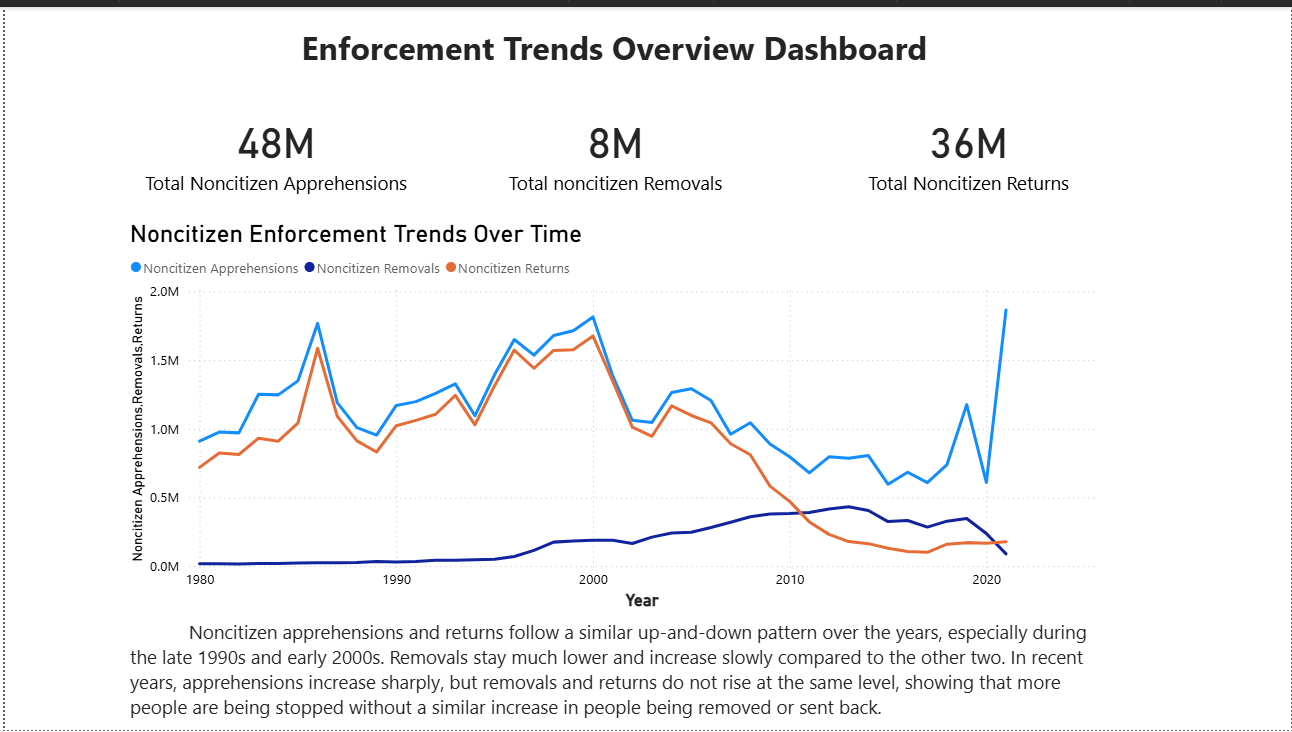

The dashboard page shown, as its layout file describes it:
{"tool":"powerbi","page":{"name":"Enforcement Trends","canvas":[1280,720],"ordinal":1},"visuals":[{"type":"lineChart","title":"Noncitizen Enforcement Trends Over Time","fields":{"Category":["US Immigration Statistics (Ver 1 7 23).Year"],"Y":["Sum(US Immigration Statistics (Ver 1 7 23).Noncitizen Apprehensions)","Sum(US Immigration Statistics (Ver 1 7 23).Noncitizen Removals)","Sum(US Immigration Statistics (Ver 1 7 23).Noncitizen Returns)"]},"box":[119.4,211.5,975.3,393.1],"z":0},{"type":"textbox","box":[119.4,13.7,974,61],"z":1000},{"type":"card","fields":{"Values":["US Immigration Statistics (Ver 1 7 23).Total noncitizen Removals"]},"box":[457.8,88.3,299.8,109.5],"z":2000},{"type":"card","fields":{"Values":["US Immigration Statistics (Ver 1 7 23).Total Noncitizen Returns"]},"box":[823.5,88.3,271.2,109.5],"z":3000},{"type":"card","fields":{"Values":["US Immigration Statistics (Ver 1 7 23).Total Noncitizen Apprehensions"]},"box":[119.4,88.3,301,109.5],"z":4000},{"type":"textbox","box":[119.7,604.9,974.5,115.7],"z":5000}]}

Visuals, with their boxes in screenshot pixels (x1, y1, x2, y2), scaled from the page's 1280x720 canvas onto the 1292x732 screenshot:
"Noncitizen Enforcement Trends Over Time" lineChart: (left=121, top=215, right=1105, bottom=615)
textbox: (left=121, top=14, right=1104, bottom=76)
card - US Immigration Statistics (Ver 1 7 23).Total noncitizen Removals: (left=462, top=90, right=765, bottom=201)
card - US Immigration Statistics (Ver 1 7 23).Total Noncitizen Returns: (left=831, top=90, right=1105, bottom=201)
card - US Immigration Statistics (Ver 1 7 23).Total Noncitizen Apprehensions: (left=121, top=90, right=424, bottom=201)
textbox: (left=121, top=615, right=1104, bottom=731)
